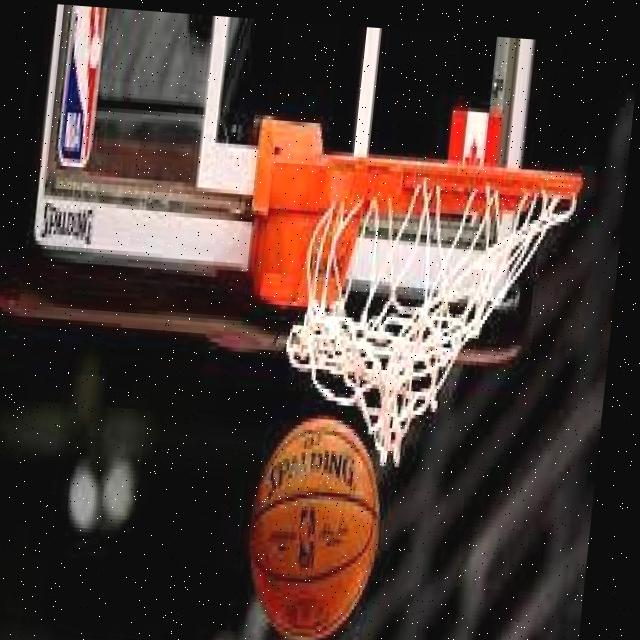Basketball: (242, 414, 389, 640)
